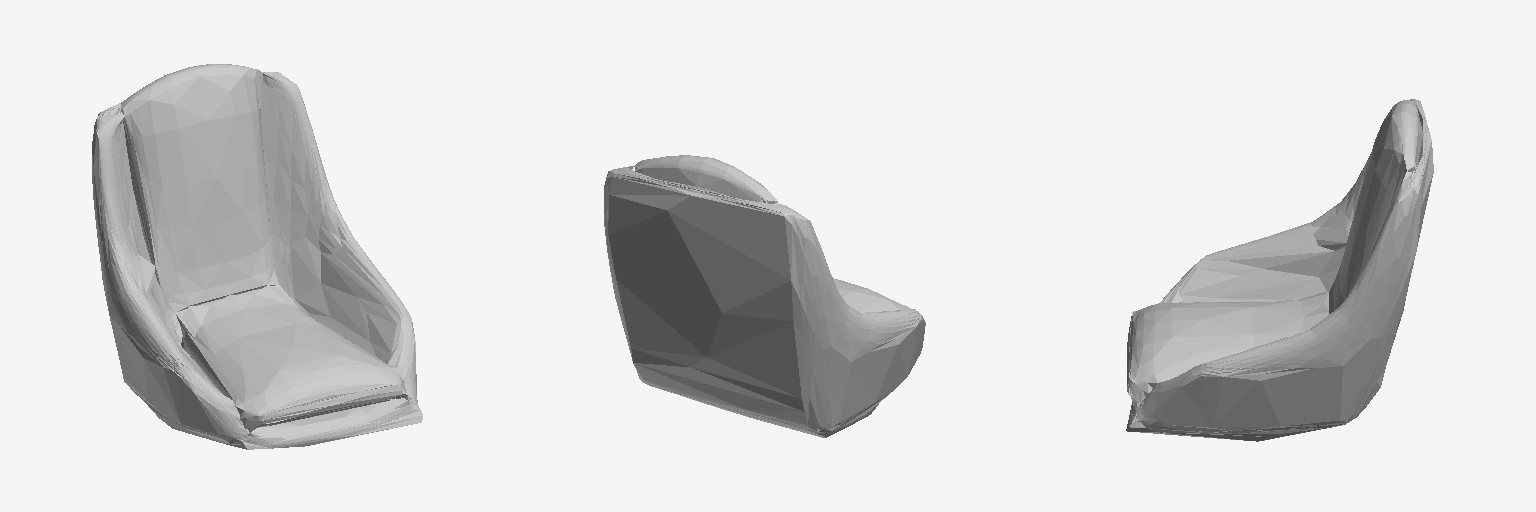
The model's file is chair5.obj.
3 views of the same model, side by side, from view 1: azimuth 30°, elevation 25°; view 2: azimuth 150°, elevation 25°; view 3: azimuth 270°, elevation 25° (orthographic).
Visible parts, largest first — view 1: Armchair5:Mesh; view 2: Armchair5:Mesh; view 3: Armchair5:Mesh.
Boxes of the visible parts, x1,y1,x2,y2 form: Armchair5:Mesh: [92, 64, 422, 449]; Armchair5:Mesh: [604, 155, 925, 437]; Armchair5:Mesh: [1126, 99, 1433, 441].
Size of the model in its own units: 0.4109 by 0.4614 by 0.4501.